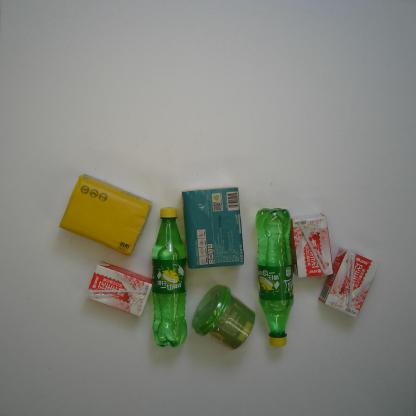Drink: (254, 207, 296, 347), (151, 207, 189, 348)
Instant Drink: (191, 284, 255, 352)
Milk: (318, 246, 380, 318), (84, 260, 154, 318), (290, 212, 334, 278)
Tissue: (60, 174, 153, 257), (181, 185, 245, 270)
